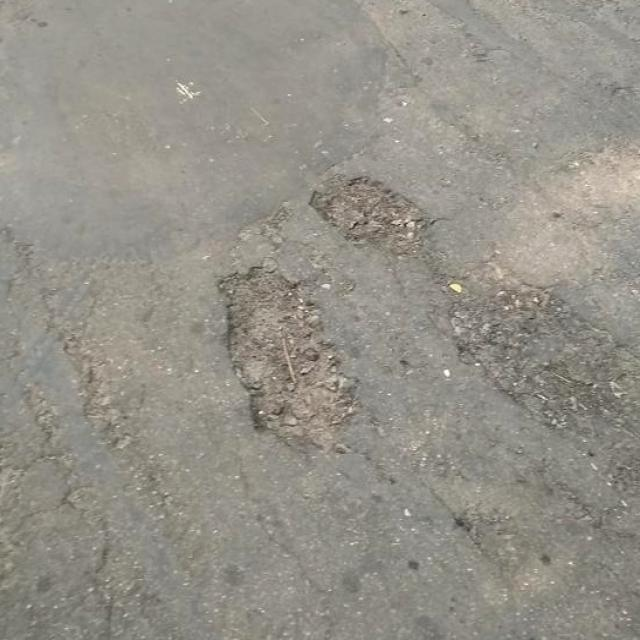road-pothole: (441, 257, 638, 462), (205, 250, 366, 446), (298, 160, 443, 268)
